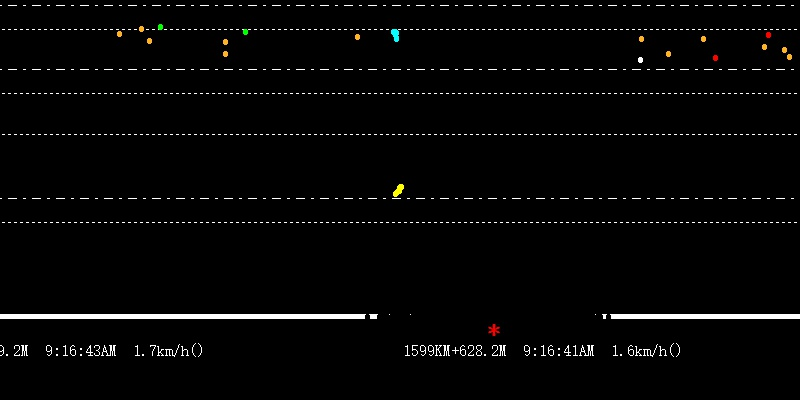face_1: (390, 23, 400, 43)
star: (485, 320, 502, 340)
